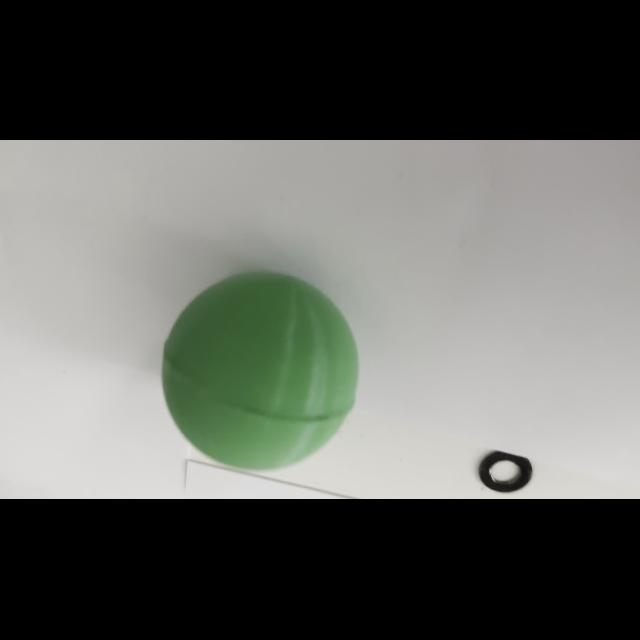objects: (157, 265, 367, 475)
